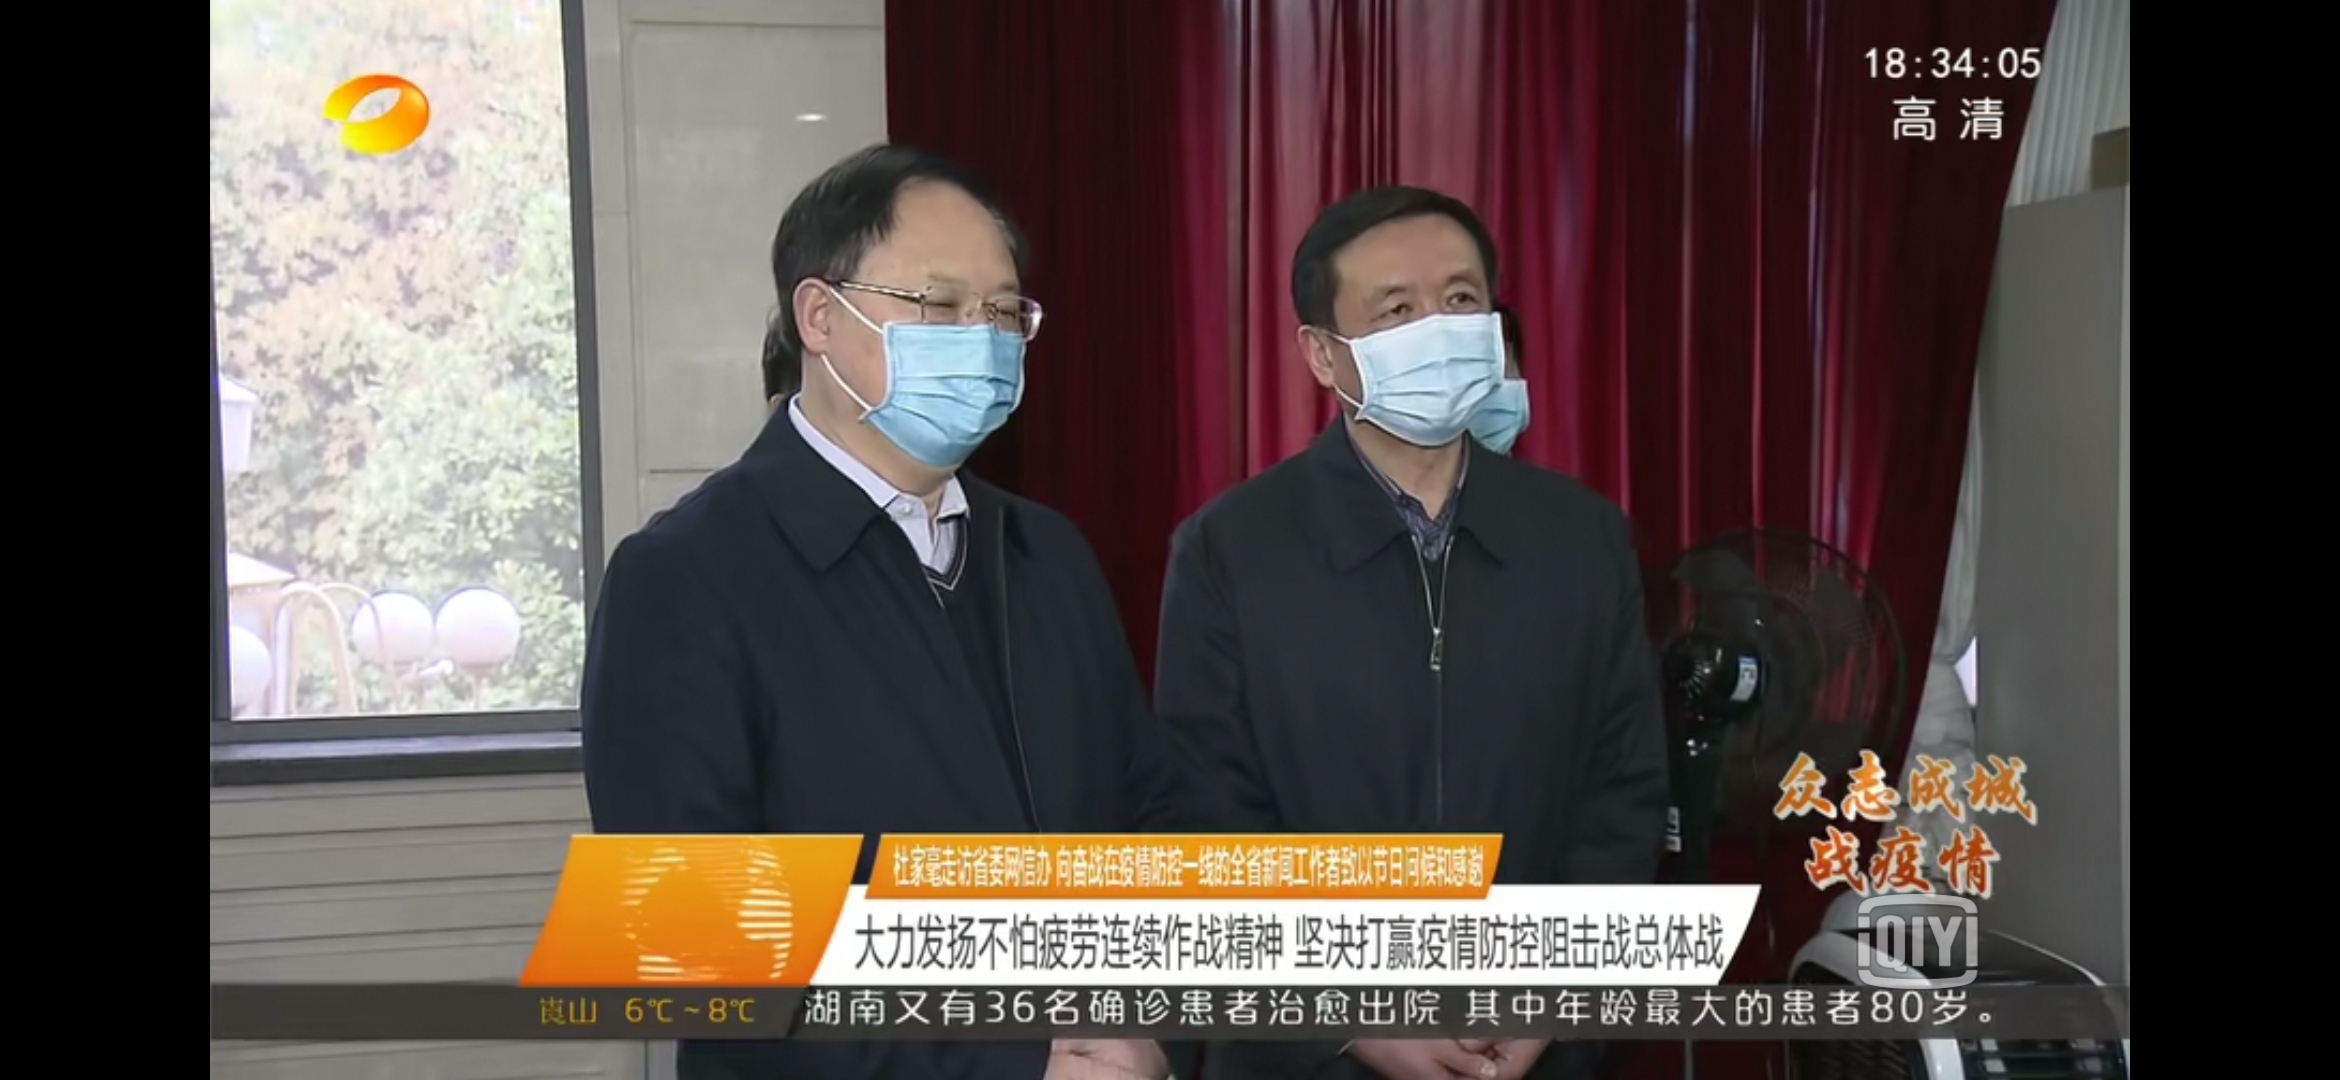correctlyWear: (786, 242, 1028, 476), (1301, 271, 1489, 440), (1461, 345, 1531, 459)
